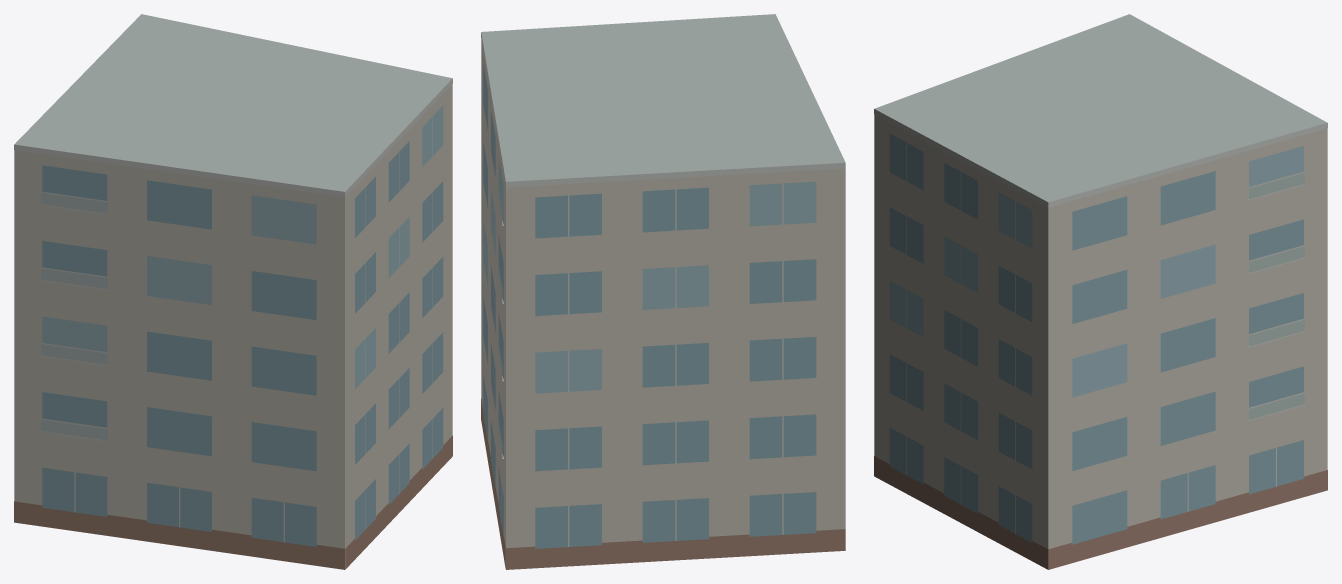
The model's file is survey-upis-32834867.glb.
3 views of the same model, side by side, from view 1: azimuth 30°, elevation 25°; view 2: azimuth 150°, elevation 25°; view 3: azimuth 270°, elevation 25° (orthographic). The views are drawn at different scales.
Parts seen in each view (by area): view 1: survey-upis-32834867.tmp; view 2: survey-upis-32834867.tmp; view 3: survey-upis-32834867.tmp.
Boxes of the visible parts, x1,y1,x2,y2 form: survey-upis-32834867.tmp: (14,14,452,569); survey-upis-32834867.tmp: (481,14,845,569); survey-upis-32834867.tmp: (874,14,1327,569).
Size of the model in its own units: 17.92 by 16.3 by 18.24.
